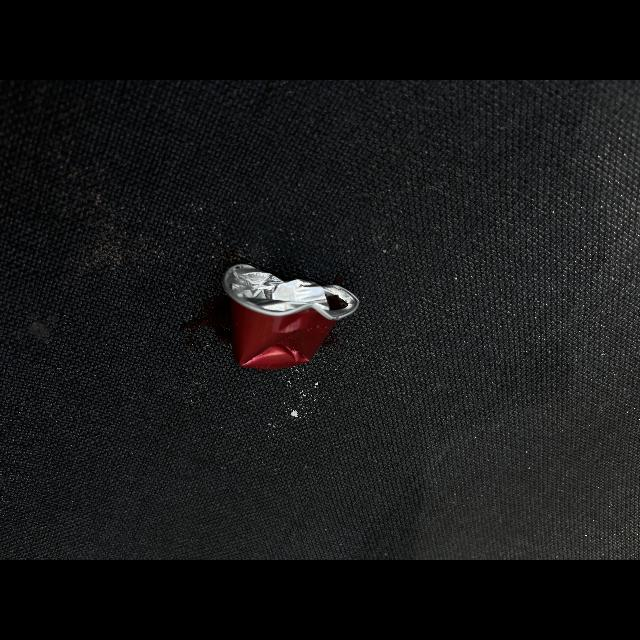damaged_capsule: (200, 254, 376, 388)
